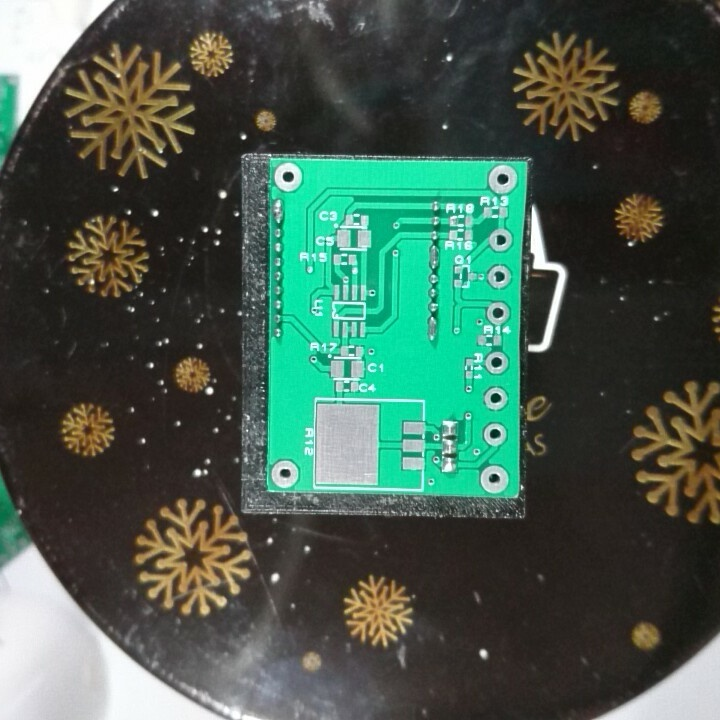F: (486, 163, 519, 198), (270, 457, 302, 490), (478, 463, 512, 494), (272, 161, 305, 192), (485, 263, 514, 297), (482, 348, 511, 376), (482, 385, 511, 413), (487, 228, 517, 255), (484, 298, 512, 325), (481, 420, 507, 446)
P: (427, 242, 444, 272), (425, 315, 441, 344), (273, 197, 287, 226)
